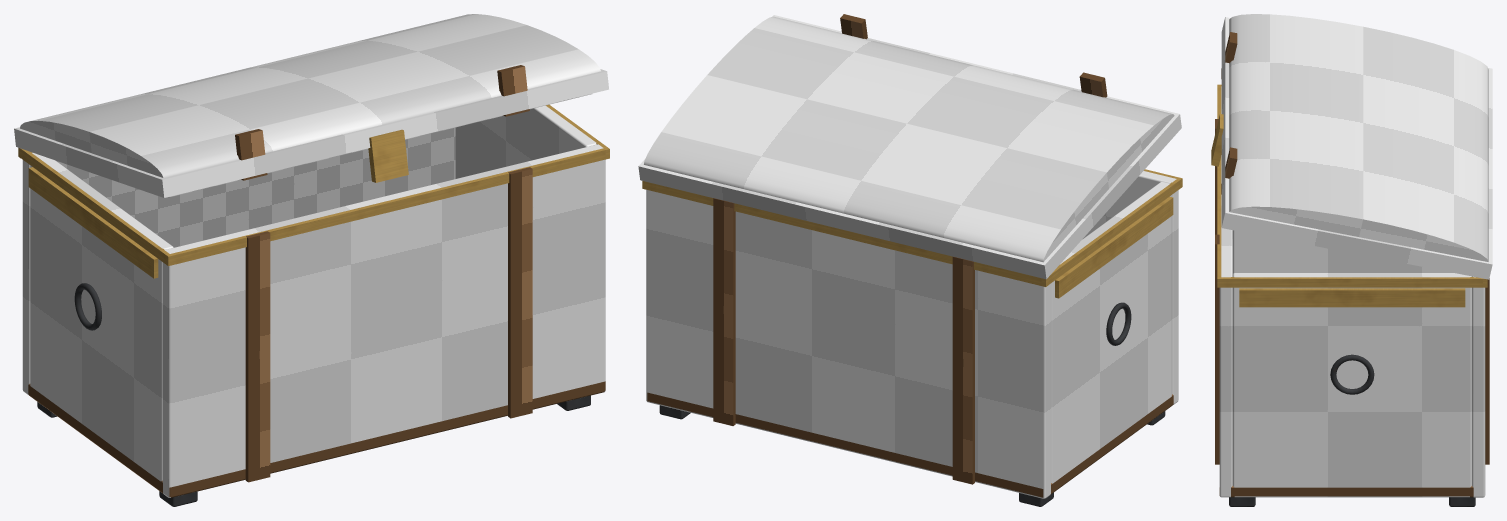
Rendered from trunk.glb.
The picture shows the model from 3 angles, left to right: view 1: azimuth 30°, elevation 25°; view 2: azimuth 150°, elevation 25°; view 3: azimuth 270°, elevation 25°; orthographic projection. The views are drawn at different scales.
Parts seen in each view (by area): view 1: dyn_color_tint, dyn_wood_variant, dyn_velvet_variant, trunk; view 2: dyn_color_tint, dyn_wood_variant, trunk; view 3: dyn_color_tint, trunk, dyn_wood_variant.
Boxes of the visible parts, box(x1,y1,x2,y2) form: dyn_color_tint: box(14, 14, 608, 497); dyn_wood_variant: box(28, 65, 605, 497); dyn_velvet_variant: box(56, 94, 591, 247); trunk: box(18, 104, 609, 506); dyn_color_tint: box(638, 15, 1181, 498); dyn_wood_variant: box(647, 14, 1173, 497); trunk: box(642, 169, 1182, 506); dyn_color_tint: box(1219, 14, 1492, 497); trunk: box(1211, 84, 1487, 506); dyn_wood_variant: box(1215, 32, 1489, 497).
Bounding box in the file's own units: 1.26 × 0.9329 × 0.7414.
Materials: 5 (5 with a texture image).
